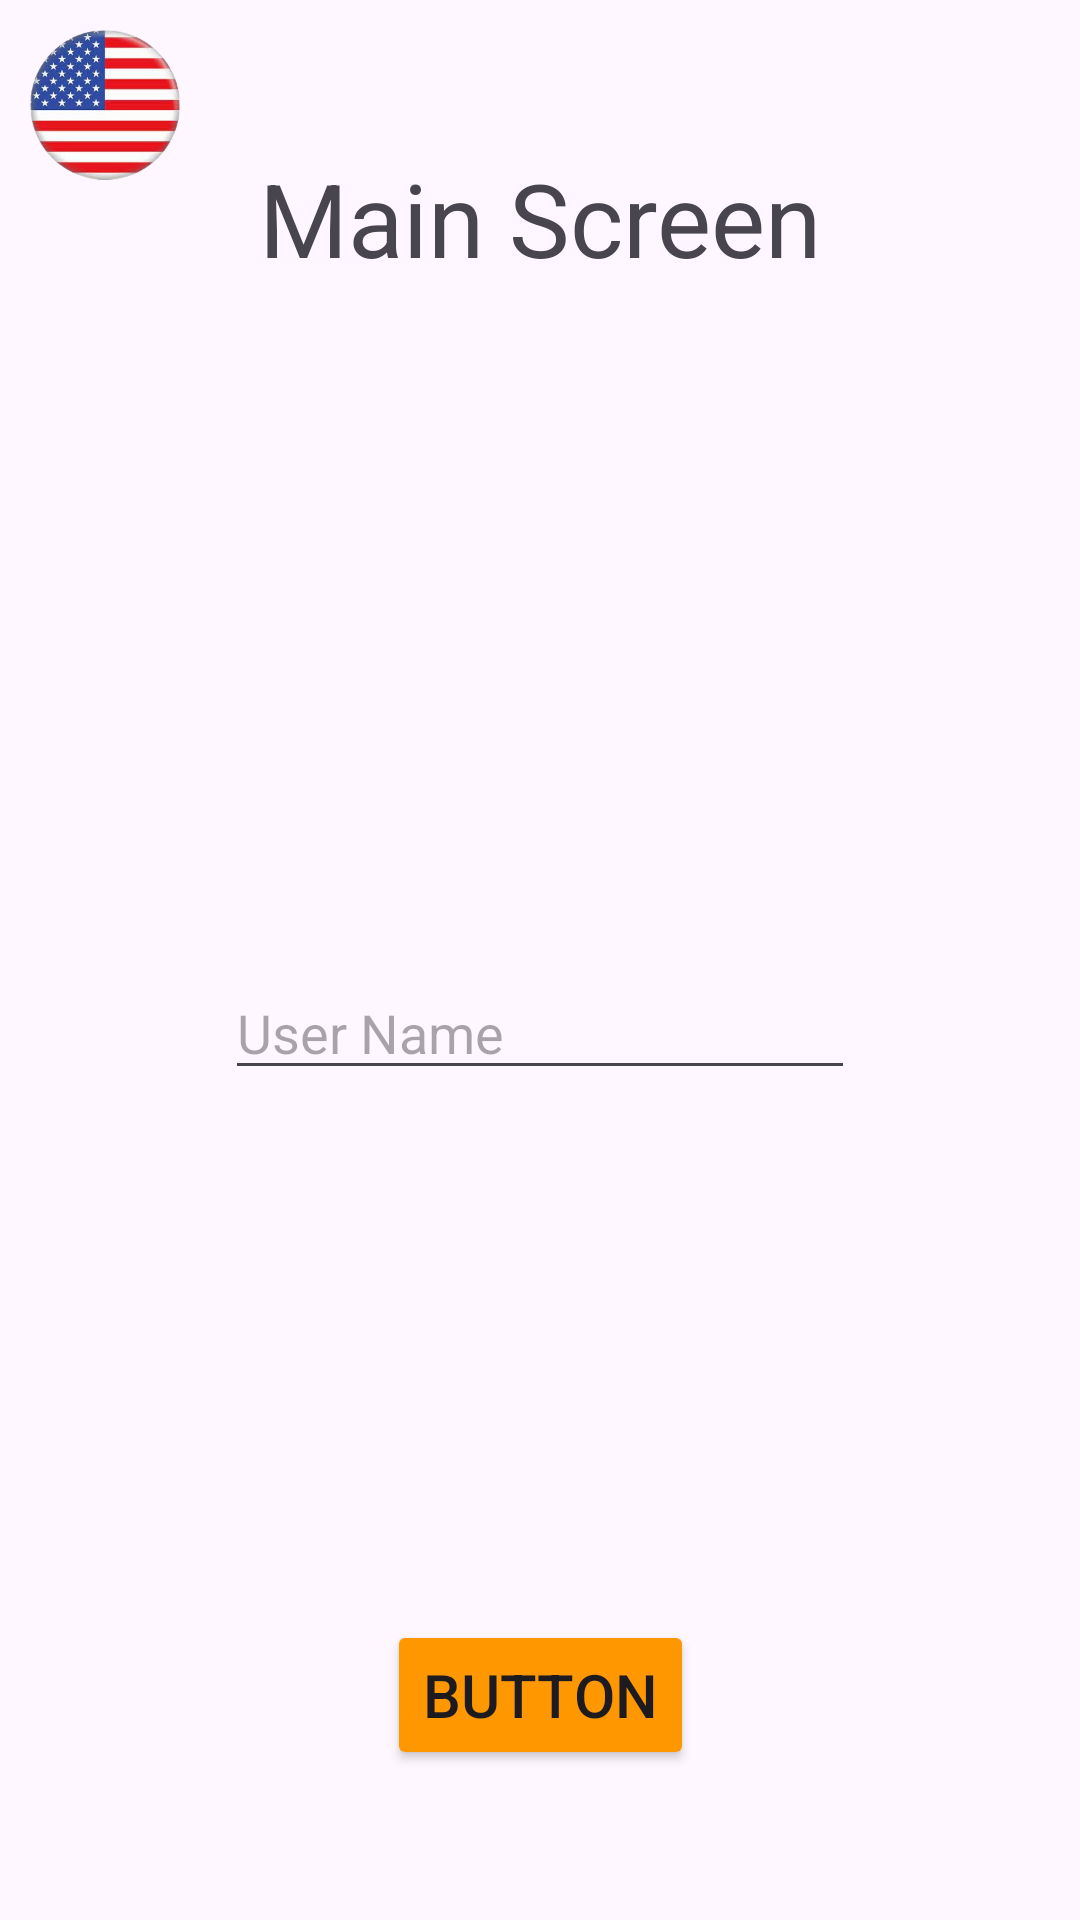

Locate icon controls on the screen. Image size 1080 x 1920, boxes as box=[x1, y1, x2, y2].
yuvarlakamerica: box=[30, 30, 180, 180]
